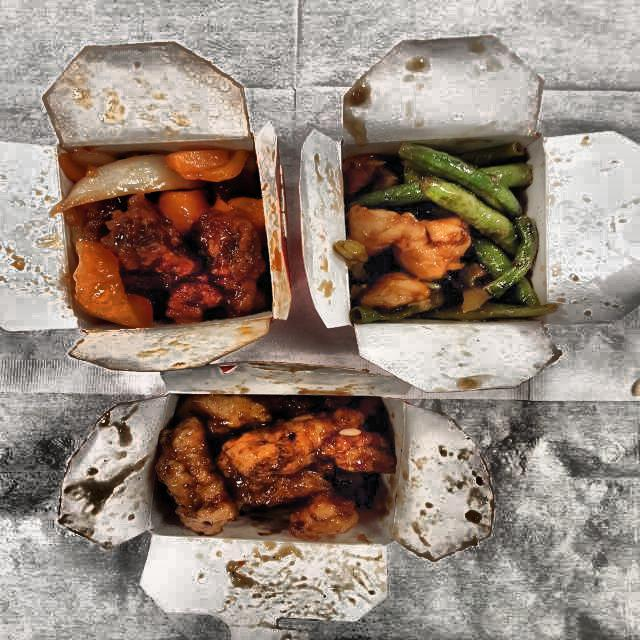Food: (337, 134, 554, 326), (56, 142, 270, 335), (152, 388, 396, 544)
